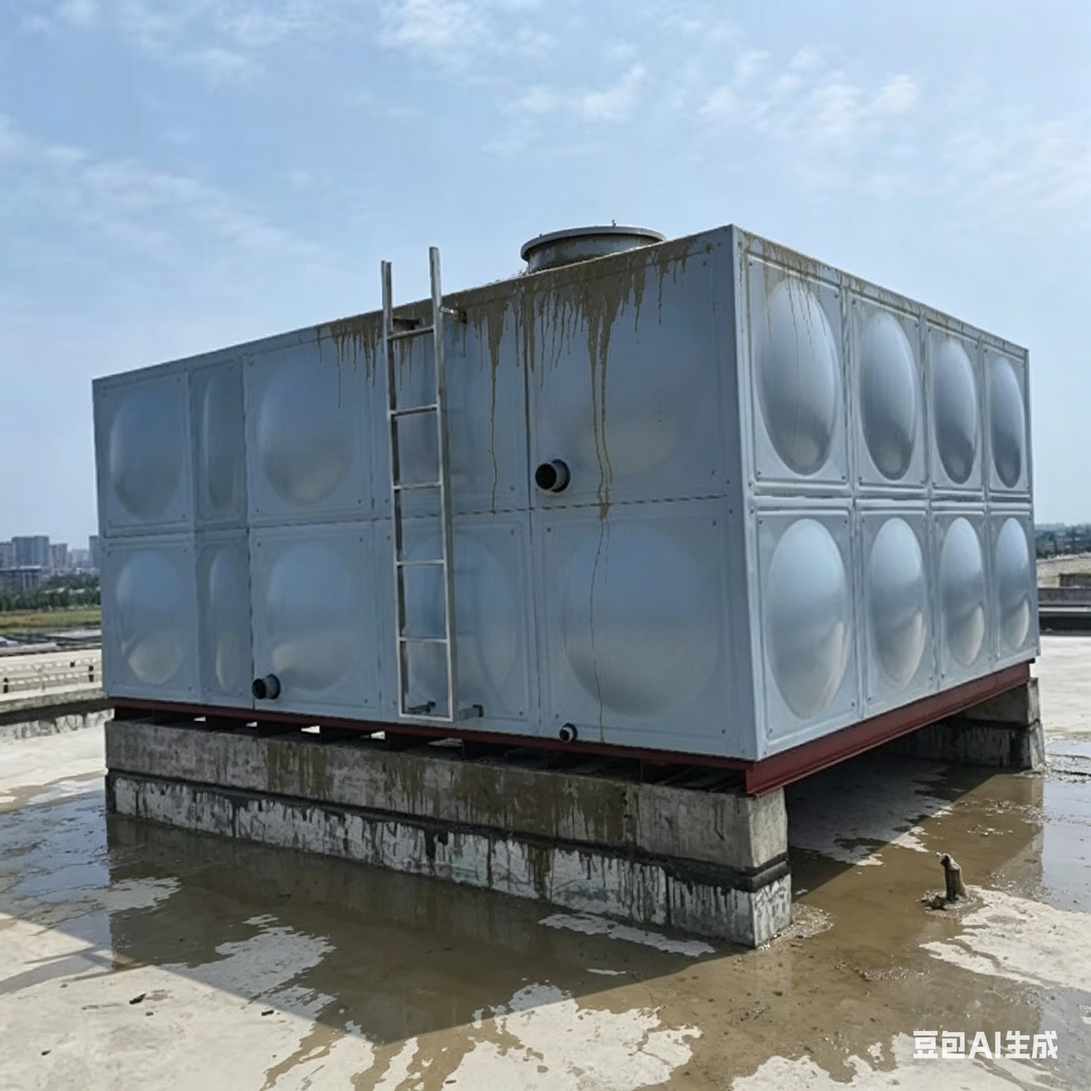Leakage: (754, 943, 1087, 1079), (297, 860, 493, 1061), (24, 814, 283, 951), (333, 253, 660, 351), (521, 908, 744, 1025), (947, 782, 1091, 915), (780, 874, 955, 933)
